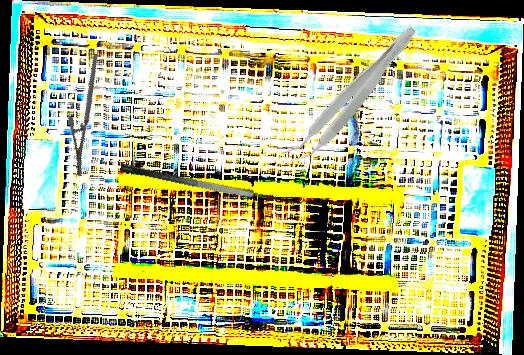Needle Holder: (41, 52, 135, 178)
Spatula Surgical: (119, 147, 307, 214)
Tissue Forceps: (281, 16, 423, 173)
